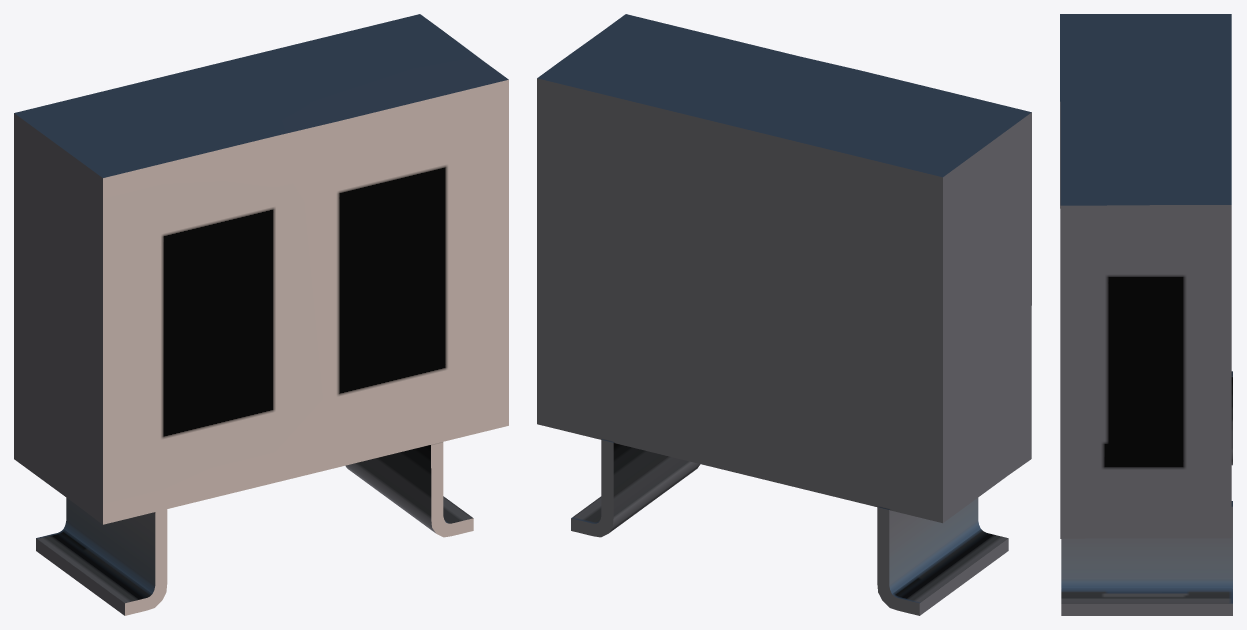
File: dianzi_2.gltf
3 renders of one model, left to right at view 1: azimuth 30°, elevation 25°; view 2: azimuth 150°, elevation 25°; view 3: azimuth 270°, elevation 25°, orthographic. The views are drawn at different scales.
Visible parts, largest first — view 1: 立方体_1; view 2: 立方体_1; view 3: 立方体_1.
Boxes of the visible parts, <box> form: 立方体_1: <box>14,14,508,615</box>; 立方体_1: <box>537,14,1031,615</box>; 立方体_1: <box>1060,14,1232,615</box>.
Size of the model in its own units: 3.18 by 3.32 by 1.22.
1 material, 1 textured.
